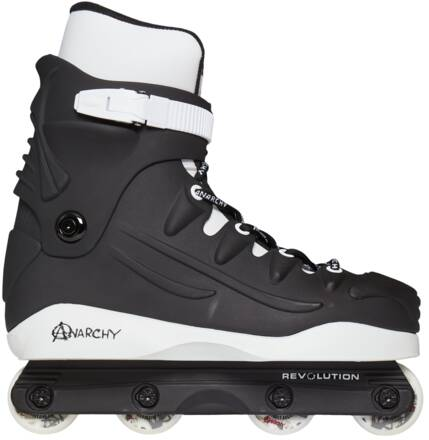roller_blade: (6, 31, 425, 435)
